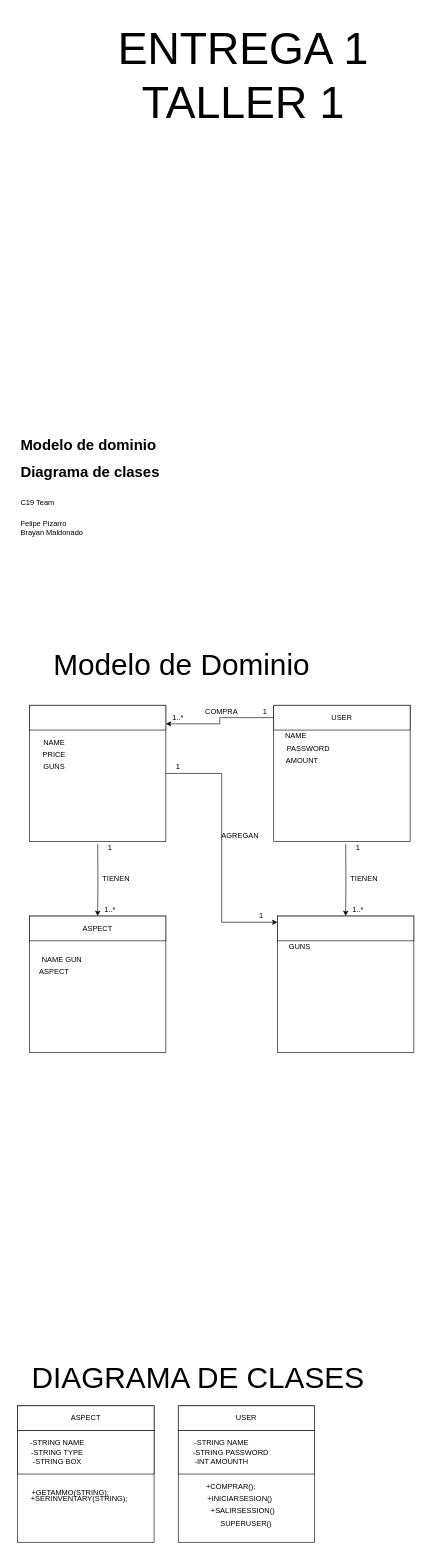
The diagram is 425 pixels wide and 1553 high, and some of its shapes have lost their labels. Here are the shapes that lost their labels. From the top down, the box of each, then its label:
(29, 705, 166, 730): BOXS
(277, 915, 414, 941): INVENTARY
